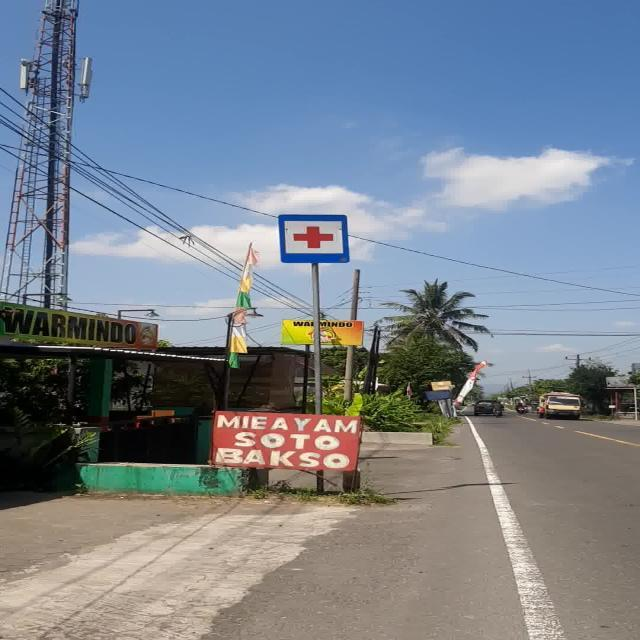Balai Pertolongan Pertama: (278, 214, 349, 263)
